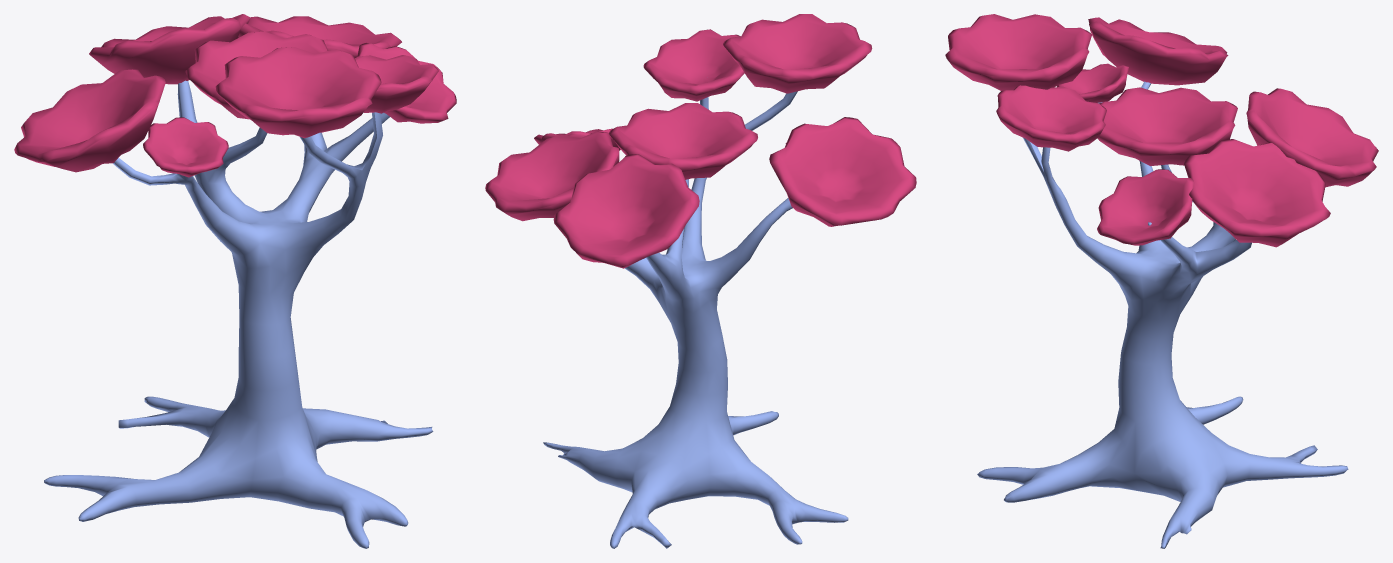
The model's file is SM_Tree_4.fbx.
3 views of the same model, side by side, from view 1: azimuth 30°, elevation 25°; view 2: azimuth 150°, elevation 25°; view 3: azimuth 270°, elevation 25° (orthographic). The views are drawn at different scales.
Parts seen in each view (by area): view 1: Arbres_1, Feuille.005_LP, Feuille.004_LP, Feuille.002_LP, Feuille.003_LP, _LP, Feuille.001_LP, Feuille.006_LP, Feuille_LP; view 2: Arbres_1, Feuille.004_LP, Feuille.002_LP, Feuille.005_LP, _LP, Feuille.001_LP, Feuille.006_LP; view 3: Arbres_1, Feuille.001_LP, Feuille.005_LP, _LP, Feuille.002_LP, Feuille.004_LP, Feuille_LP, Feuille.006_LP, Feuille.003_LP.
Part boxes in pixels (x1,y1,x2,y2): Arbres_1: [44, 80, 433, 548]; Feuille.005_LP: [215, 47, 381, 138]; Feuille.004_LP: [14, 69, 165, 172]; Feuille.002_LP: [89, 14, 250, 84]; Feuille.003_LP: [143, 117, 228, 177]; _LP: [185, 31, 327, 119]; Feuille.001_LP: [238, 16, 401, 57]; Feuille.006_LP: [355, 55, 438, 113]; Feuille_LP: [357, 43, 456, 123]; Arbres_1: [543, 91, 848, 548]; Feuille.004_LP: [769, 117, 916, 226]; Feuille.002_LP: [553, 154, 699, 268]; Feuille.005_LP: [723, 14, 872, 93]; _LP: [609, 103, 757, 179]; Feuille.001_LP: [485, 131, 619, 221]; Feuille.006_LP: [643, 29, 744, 101]; Arbres_1: [977, 81, 1348, 548]; Feuille.001_LP: [1184, 139, 1330, 247]; Feuille.005_LP: [945, 14, 1091, 90]; _LP: [1097, 87, 1237, 166]; Feuille.002_LP: [1246, 88, 1378, 187]; Feuille.004_LP: [1088, 17, 1228, 85]; Feuille_LP: [1097, 169, 1194, 245]; Feuille.006_LP: [996, 85, 1106, 151]; Feuille.003_LP: [1057, 63, 1128, 102].
Bounding box in the file's own units: 86.12 × 92.31 × 85.67.
